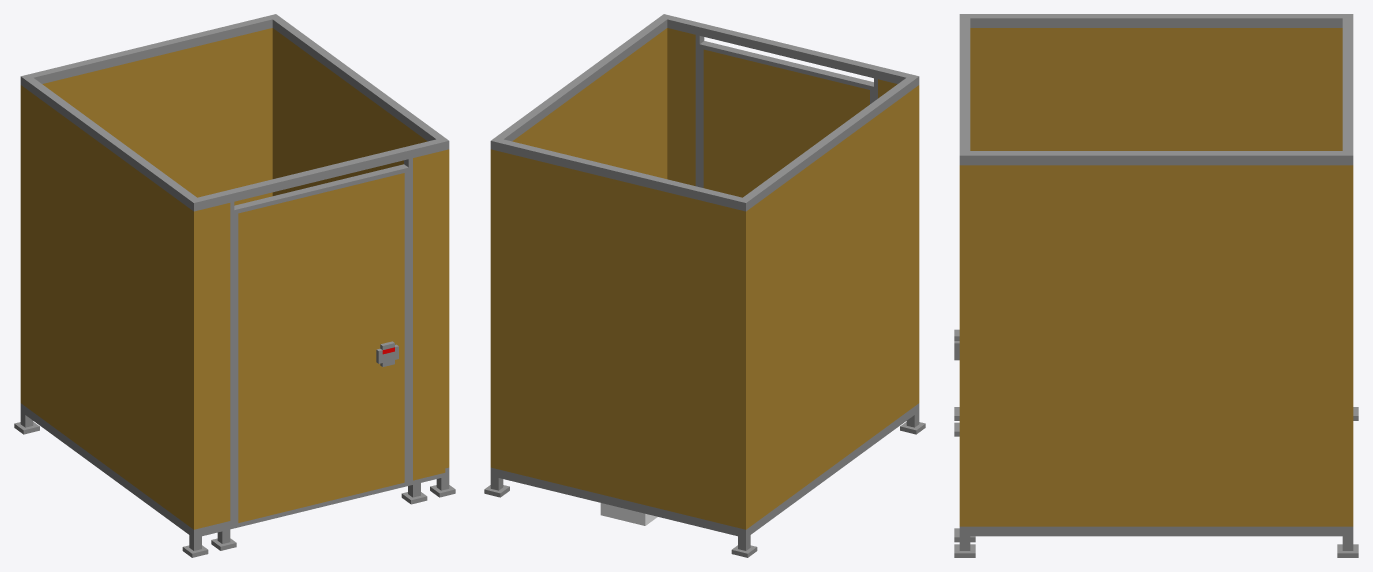
The model's file is Toilet1-6.fbx.
3 renders of one model, left to right at view 1: azimuth 30°, elevation 25°; view 2: azimuth 150°, elevation 25°; view 3: azimuth 270°, elevation 25°, orthographic. The views are drawn at different scales.
Parts seen in each view (by area): view 1: Toilet1-6.001, Toilet1-6.002; view 2: Toilet1-6.001, Toilet1-6.002; view 3: Toilet1-6.001.
Boxes of the visible parts, x1=… form: Toilet1-6.001: x1=14, y1=14, x2=455, y2=557; Toilet1-6.002: x1=234, y1=164, x2=408, y2=528; Toilet1-6.001: x1=484, y1=14, x2=925, y2=557; Toilet1-6.002: x1=699, y1=41, x2=873, y2=197; Toilet1-6.001: x1=954, y1=14, x2=1358, y2=557.
Size of the model in its own units: 6.5 by 8.3 by 7.6.
